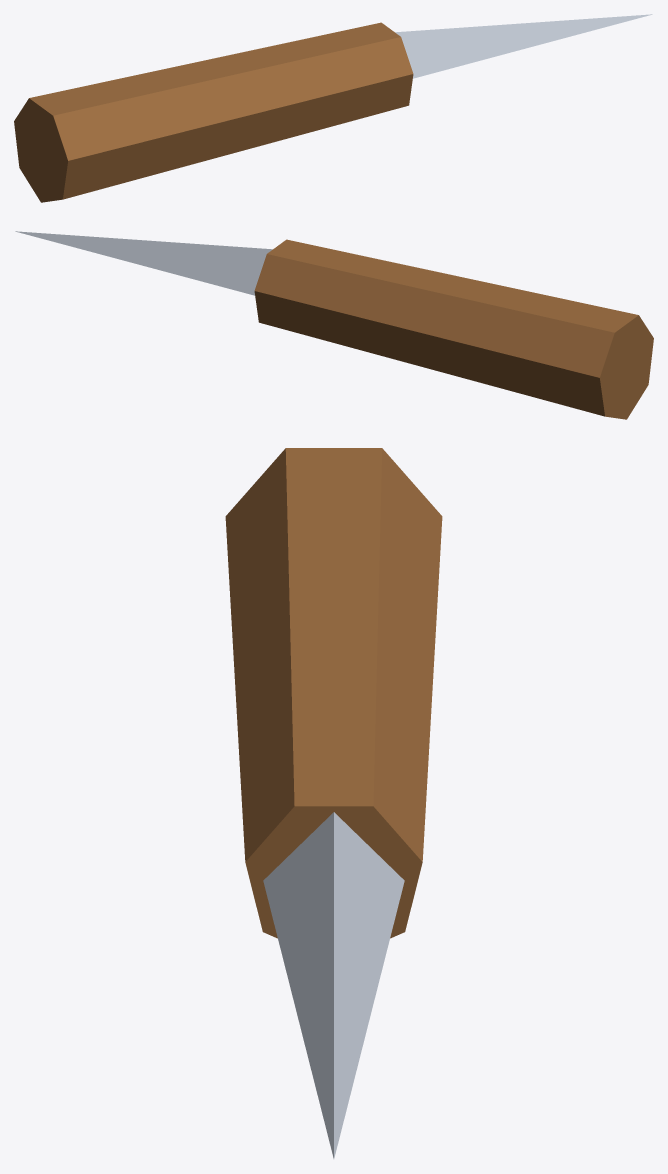
File: drop_chisel.glb
3 renders of one model, top to bottom at view 1: azimuth 30°, elevation 25°; view 2: azimuth 150°, elevation 25°; view 3: azimuth 270°, elevation 25°, orthographic. The views are drawn at different scales.
Parts seen in each view (by area): view 1: drop_chisel; view 2: drop_chisel; view 3: drop_chisel.
Boxes of the visible parts, x1,y1,x2,y2 form: drop_chisel: [14, 14, 652, 202]; drop_chisel: [15, 231, 653, 419]; drop_chisel: [225, 448, 442, 1158].
Bounding box in the file's own units: 0.28 × 0.0418 × 0.0429.
